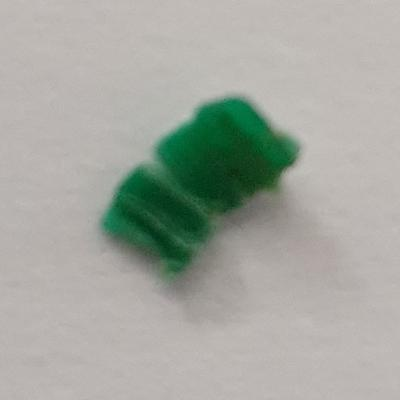plastic: (94, 90, 307, 296)
